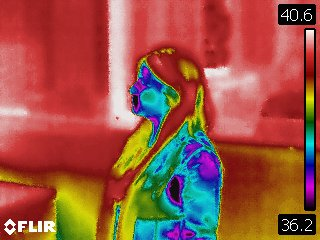human: (97, 47, 225, 240)
